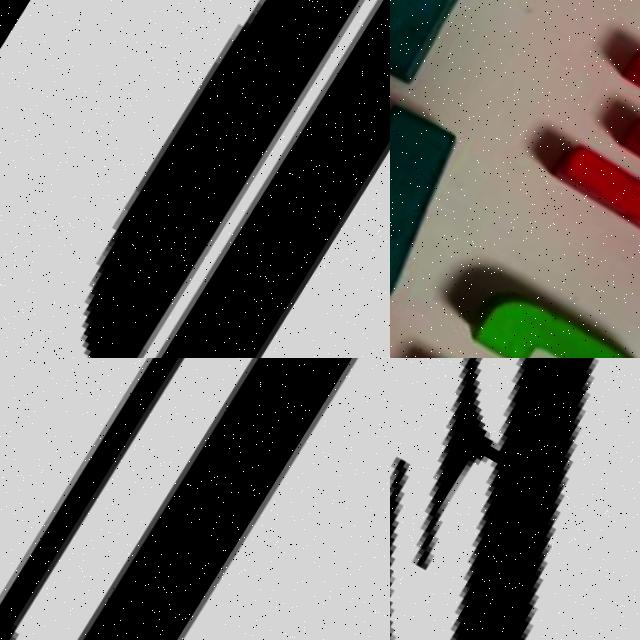C: (404, 272, 640, 358)
D: (31, 0, 390, 358)
E: (417, 358, 593, 640), (536, 22, 640, 292)
K: (390, 29, 476, 297)
U: (0, 358, 390, 640)
